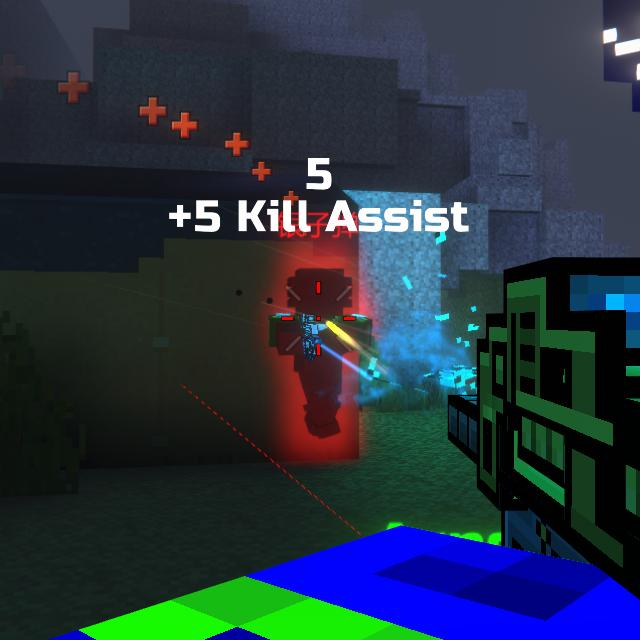Enemy: (269, 266, 375, 439)
